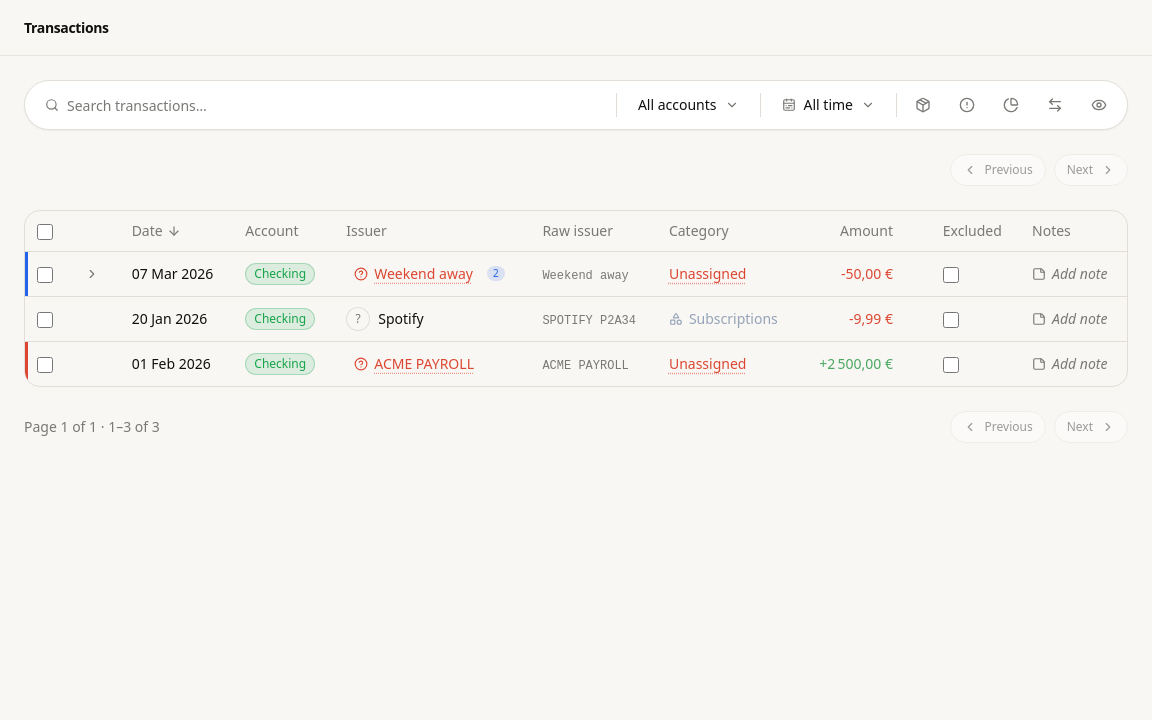
TransactionsView › bundle expansion (issue #73) › expands without navigating to the parent's detail page
The width and height of the screenshot is (1152, 720).
Expected: the button "ACME PAYROLL" is shown, [346, 352, 482, 376]
Click the button named "show the 2 transactions in weekend away" at (92, 274), box [80, 262, 104, 286]
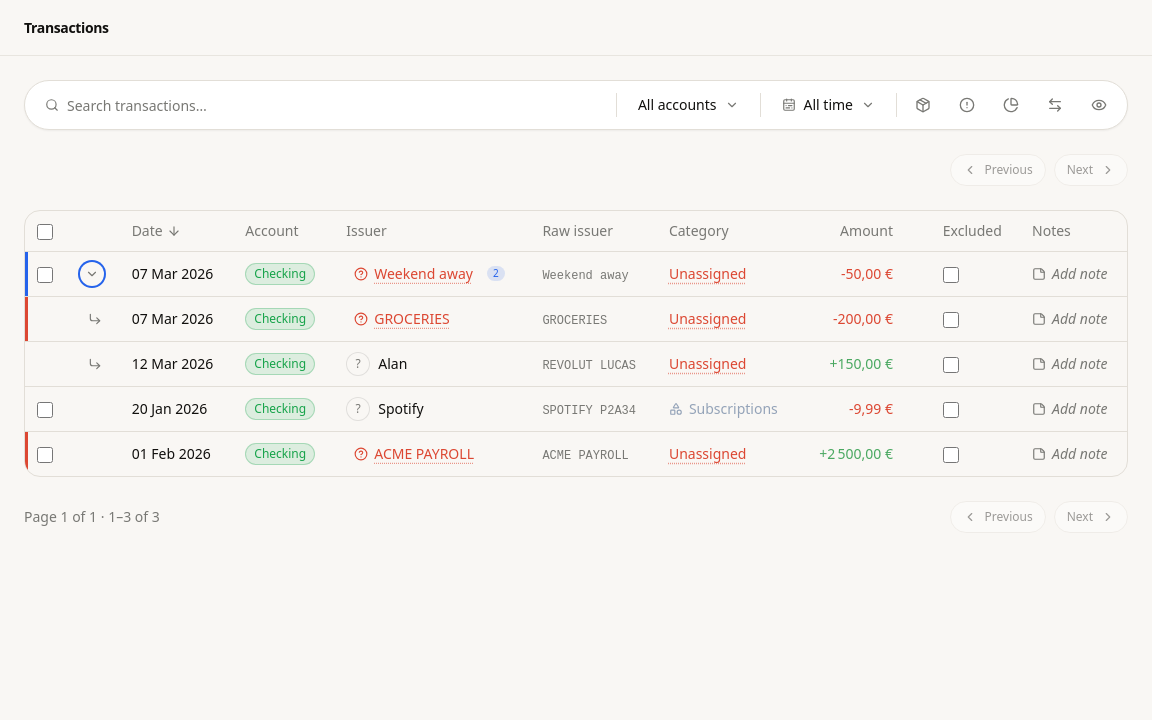
Expected: the 1st text "GROCERIES" is shown, [374, 308, 450, 328]
